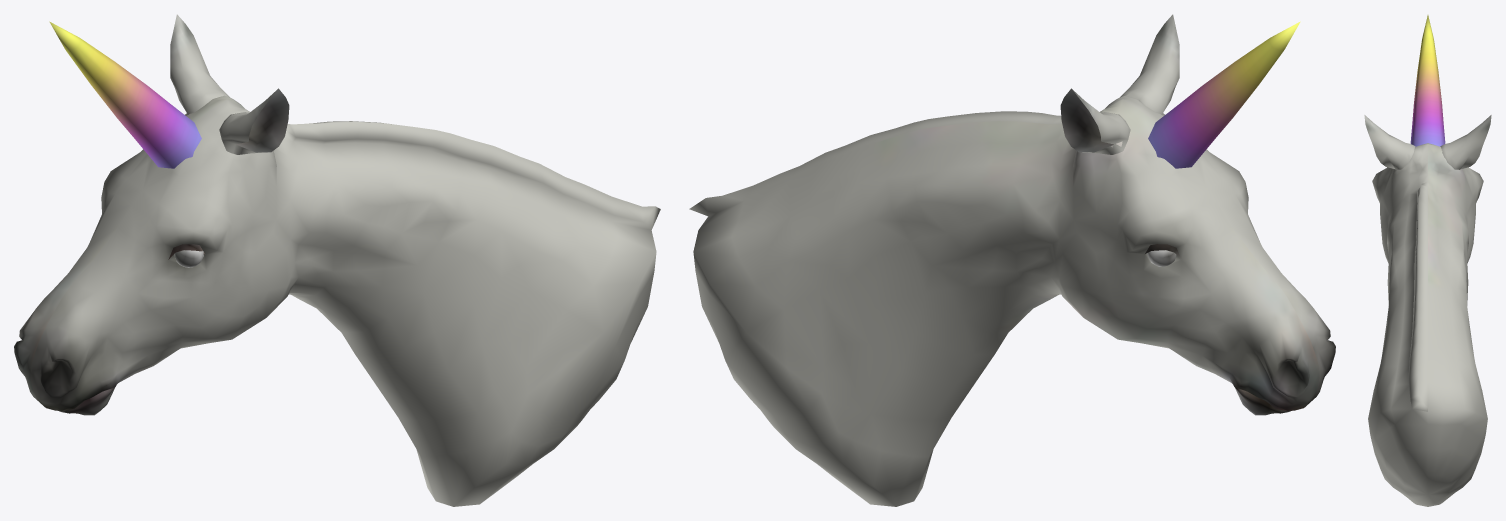
Rendered from Pegasus_Head_0.FBX.
3 views of the same model, side by side, from view 1: azimuth 30°, elevation 25°; view 2: azimuth 150°, elevation 25°; view 3: azimuth 270°, elevation 25° (orthographic). The views are drawn at different scales.
Visible parts, largest first — view 1: Pegasus_Head_0; view 2: Pegasus_Head_0; view 3: Pegasus_Head_0.
Part boxes in pixels (<box>): Pegasus_Head_0: <box>14,14,660,506</box>; Pegasus_Head_0: <box>689,14,1335,506</box>; Pegasus_Head_0: <box>1364,15,1491,506</box>.
Size of the model in its own units: 2.75 by 2.42 by 0.7654.
